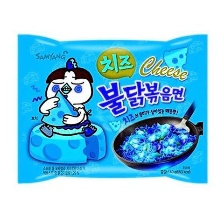snack: (8, 25, 217, 191)
